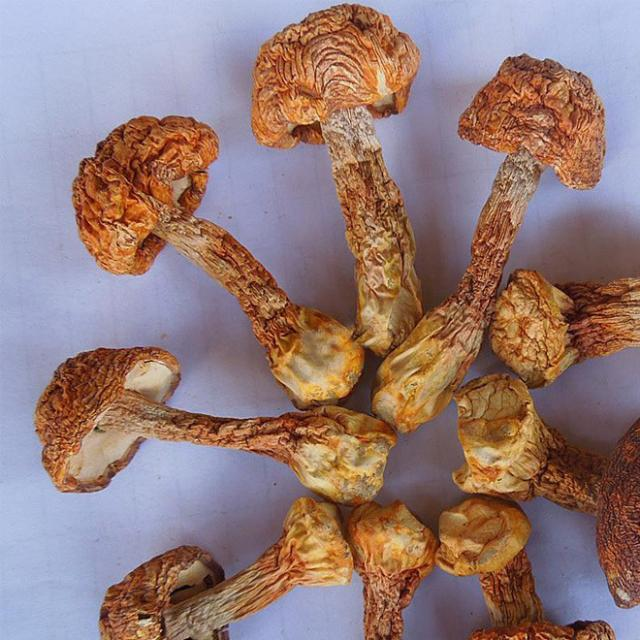Agaricus blazei Murill: (390, 53, 608, 429), (74, 114, 358, 399), (254, 7, 422, 345), (41, 347, 391, 502), (102, 506, 348, 638)
